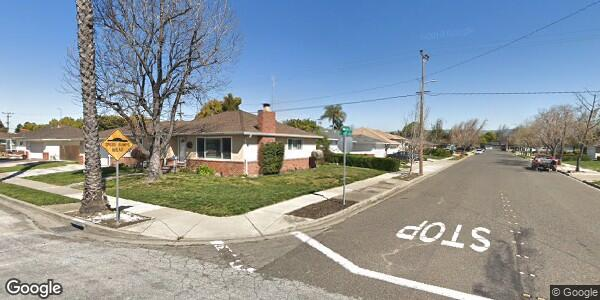Wood_Pole: (411, 46, 432, 175)
